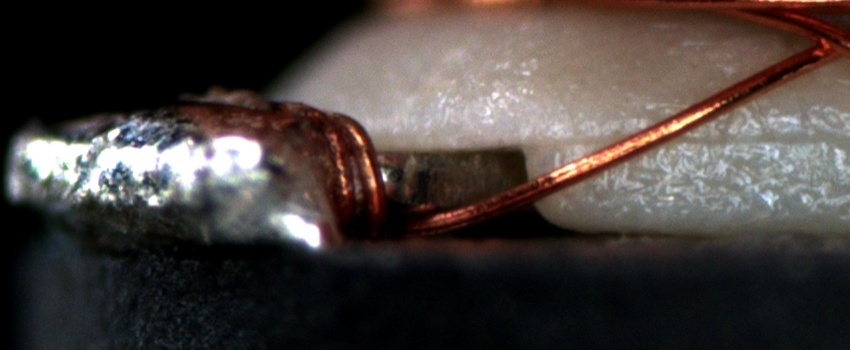CL: (791, 17, 848, 68)
DL: (528, 109, 850, 173)
TE: (304, 102, 388, 230)
